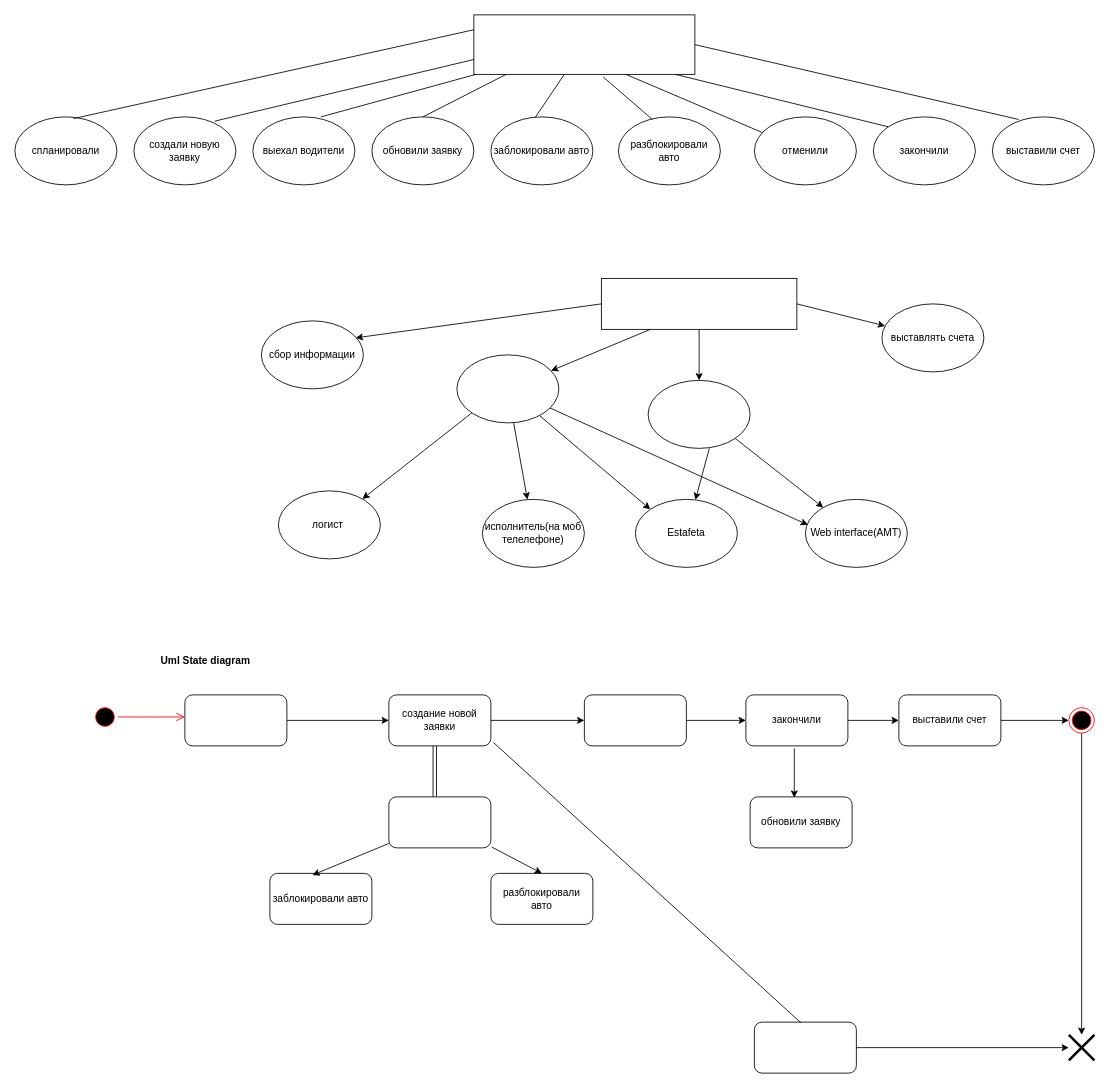
Image size: 1110x1088. Some labels were removed from this diagram. Here are the shapes that lost their labels. From the top down, the centre of each, then its label:
At point (584, 44): "T.O. List".
At point (699, 303): "Transport order".
At point (507, 388): "просматривать".
At point (698, 414): "управлять статусами".
At point (235, 720): "планирование заявки".
At point (635, 720): "выехал водитель(транзит)".
At point (439, 822): "создали автомобиль".
At point (805, 1047): "отменили заявку".
